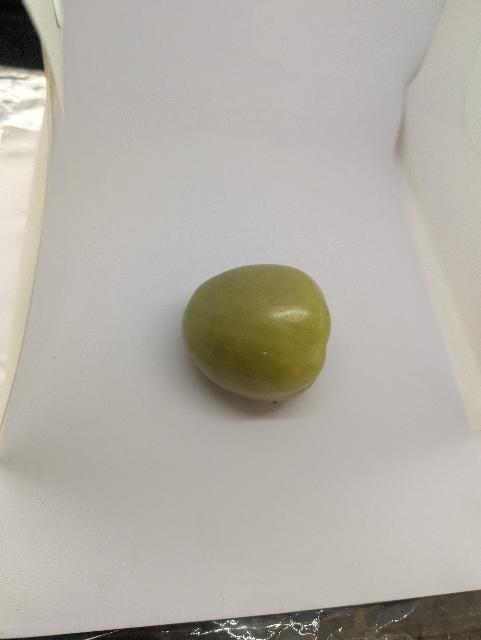green: (172, 256, 347, 421)
